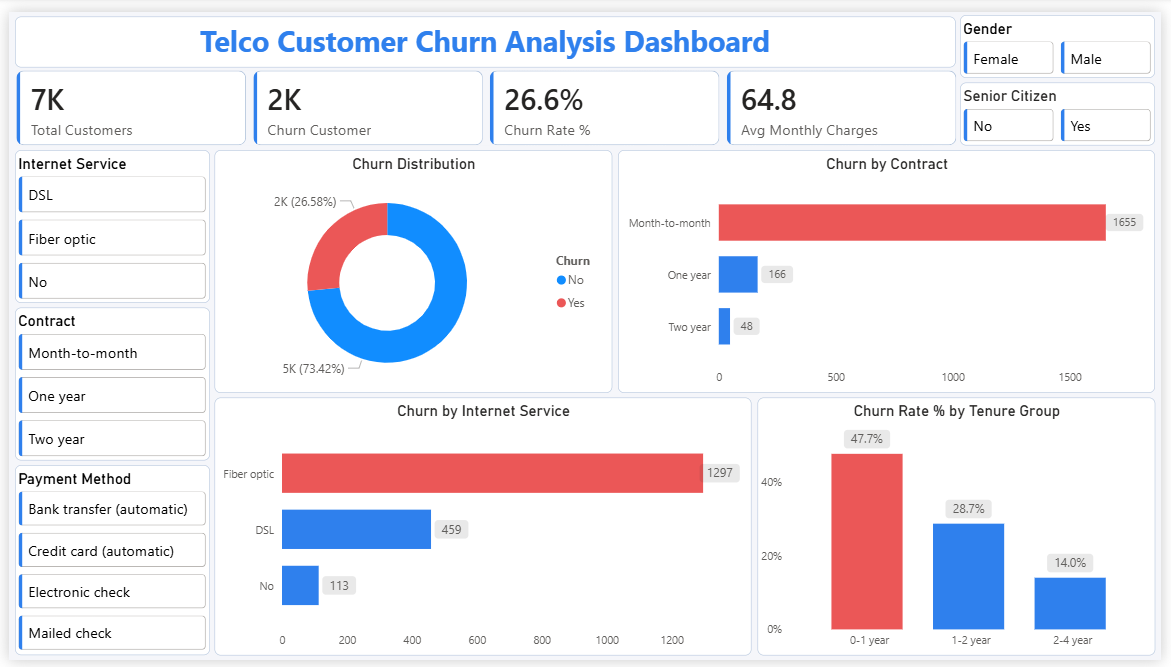

The page's visual inventory and layout, read from the dashboard file:
{"tool":"powerbi","page":{"name":"Executive Overview","canvas":[1280,720],"ordinal":0},"visuals":[{"type":"textbox","box":[6.7,5,1045,56.7],"z":0},{"type":"cardVisual","fields":{"Data":["Telco-Customer-Churn-dataset.Total Customers","Telco-Customer-Churn-dataset.Total Churn Customer","Telco-Customer-Churn-dataset.Churn Rate %","Telco-Customer-Churn-dataset.Avg Monthly Charges"]},"box":[8.3,65,1045,83.3],"z":1000},{"type":"advancedSlicerVisual","title":"Gender","fields":{"Values":["Telco-Customer-Churn-dataset.gender"]},"box":[1056.7,3.3,216.7,70],"z":2000},{"type":"advancedSlicerVisual","fields":{"Values":["Telco-Customer-Churn-dataset.Senior Citizen"]},"box":[1056.7,78.3,216.7,70],"z":3000},{"type":"advancedSlicerVisual","fields":{"Values":["Telco-Customer-Churn-dataset.Contract"]},"box":[6.7,328.3,216.7,170],"z":4000},{"type":"advancedSlicerVisual","fields":{"Values":["Telco-Customer-Churn-dataset.PaymentMethod"]},"box":[6.7,503.3,216.7,211],"z":5000},{"type":"advancedSlicerVisual","fields":{"Values":["Telco-Customer-Churn-dataset.InternetService"]},"box":[6.7,153.3,216.7,170],"z":6000},{"type":"donutChart","title":"Churn Distribution","fields":{"Y":["Telco-Customer-Churn-dataset.Total Customers"],"Category":["Telco-Customer-Churn-dataset.Churn"]},"box":[228.3,153.3,441.7,270],"z":7000},{"type":"clusteredBarChart","title":"Churn by Contract","fields":{"Category":["Telco-Customer-Churn-dataset.Contract"],"Y":["Telco-Customer-Churn-dataset.Total Churn Customer"]},"box":[676.7,153.3,596.7,270],"z":8000},{"type":"clusteredBarChart","title":"Churn by Internet Service","fields":{"Category":["Telco-Customer-Churn-dataset.InternetService"],"Y":["Telco-Customer-Churn-dataset.Total Churn Customer"]},"box":[228.3,428.3,596.7,286.7],"z":9000},{"type":"clusteredColumnChart","title":"Churn Rate % by Tenure Group","fields":{"Category":["Telco-Customer-Churn-dataset.Tenure Group"],"Y":["Telco-Customer-Churn-dataset.Churn Rate %"]},"box":[831.7,428.3,441.7,286.7],"z":10000}]}

Visuals, with their boxes in screenshot pixels (x1, y1, x2, y2), scaled from the page's 1280x720 canvas onto the 1171x667 screenshot:
textbox: (6, 5, 962, 57)
cardVisual - Telco-Customer-Churn-dataset.Total Customers x Telco-Customer-Churn-dataset.Total Churn Customer: (8, 60, 964, 137)
"Gender" advancedSlicerVisual: (967, 3, 1165, 68)
advancedSlicerVisual - Telco-Customer-Churn-dataset.Senior Citizen: (967, 73, 1165, 137)
advancedSlicerVisual - Telco-Customer-Churn-dataset.Contract: (6, 304, 204, 462)
advancedSlicerVisual - Telco-Customer-Churn-dataset.PaymentMethod: (6, 466, 204, 662)
advancedSlicerVisual - Telco-Customer-Churn-dataset.InternetService: (6, 142, 204, 300)
"Churn Distribution" donutChart: (209, 142, 613, 392)
"Churn by Contract" clusteredBarChart: (619, 142, 1165, 392)
"Churn by Internet Service" clusteredBarChart: (209, 397, 755, 662)
"Churn Rate % by Tenure Group" clusteredColumnChart: (761, 397, 1165, 662)
